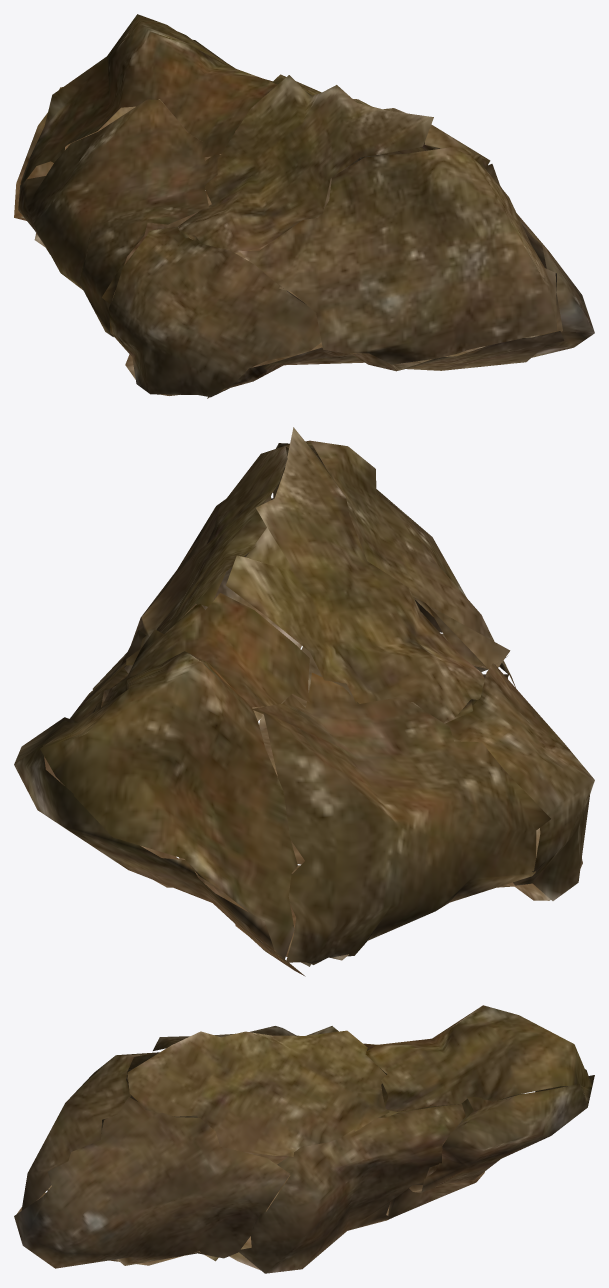
File: rock_a.glb
The picture shows the model from 3 angles, top to bottom: view 1: azimuth 30°, elevation 25°; view 2: azimuth 150°, elevation 25°; view 3: azimuth 270°, elevation 25°; orthographic projection. The views are drawn at different scales.
Parts seen in each view (by area): view 1: rock_a; view 2: rock_a; view 3: rock_a.
Boxes of the visible parts, bbox=[...] form: rock_a: bbox=[14, 14, 594, 398]; rock_a: bbox=[14, 427, 594, 976]; rock_a: bbox=[14, 1005, 594, 1273].
Size of the model in its own units: 2.27 by 1.48 by 3.41.
Materials: 1 (1 with a texture image).
